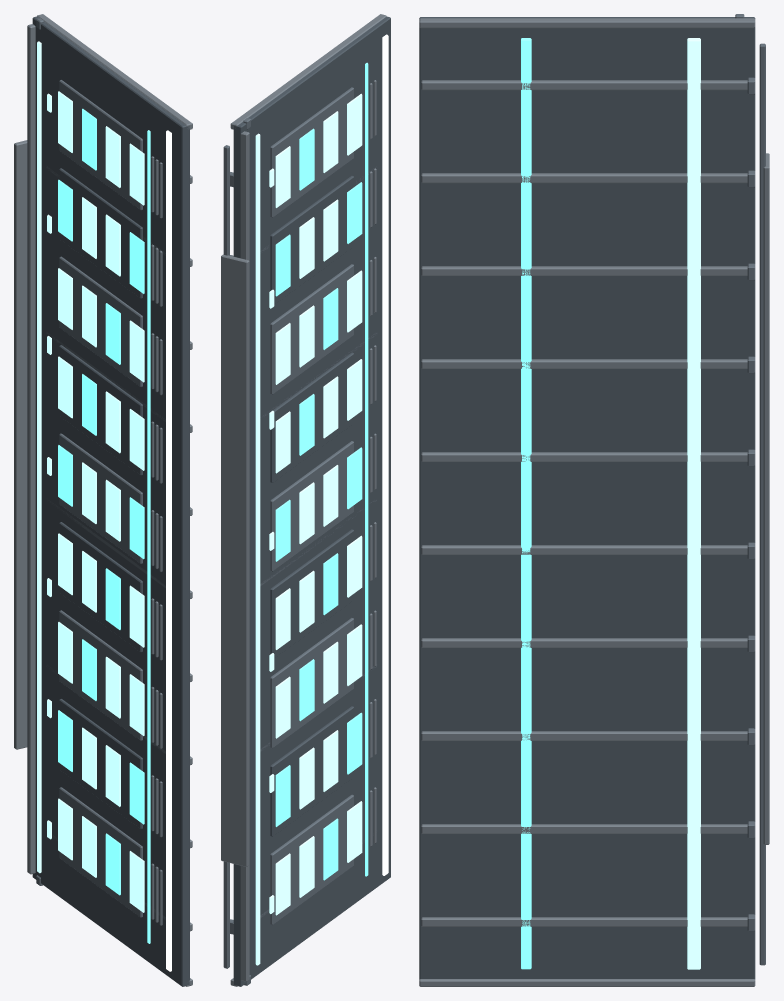
The model's file is wall_ribbon_rift_r.glb.
The picture shows the model from 3 angles, left to right: view 1: azimuth 30°, elevation 25°; view 2: azimuth 150°, elevation 25°; view 3: azimuth 270°, elevation 25°; orthographic projection. The views are drawn at different scales.
Visible parts, largest first — view 1: WallRibbon_rift_R; view 2: WallRibbon_rift_R; view 3: WallRibbon_rift_R.
Part boxes in pixels (box(x1,y1,x2,y2)): WallRibbon_rift_R: box(14, 14, 192, 986); WallRibbon_rift_R: box(221, 14, 390, 986); WallRibbon_rift_R: box(419, 14, 769, 986).
Bounding box in the file's own units: 0.455 × 14 × 4.59.
